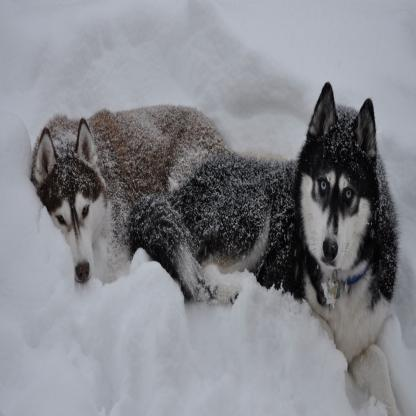husky: (137, 85, 399, 360), (30, 104, 230, 280)
